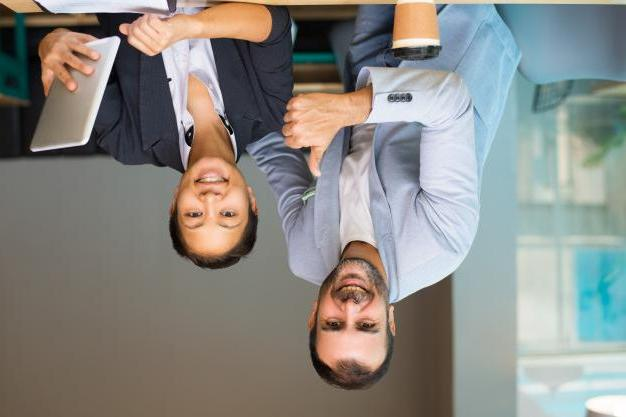thumbsdown: (282, 92, 327, 177)
